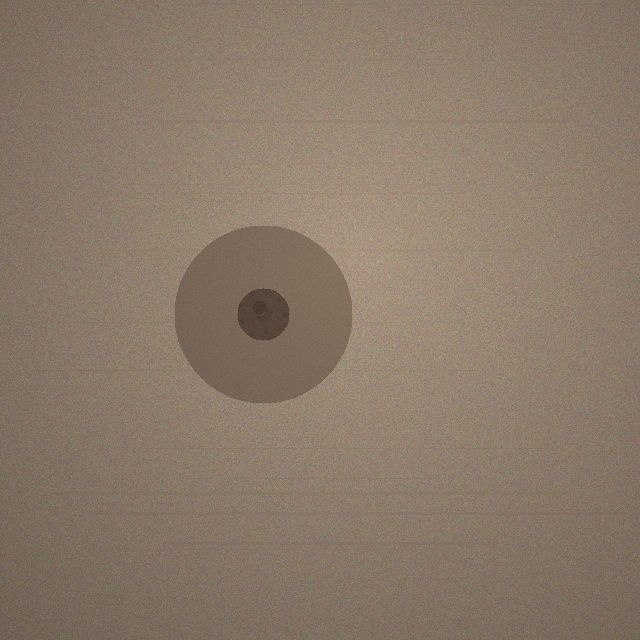cold_weld: (174, 225, 352, 403)
